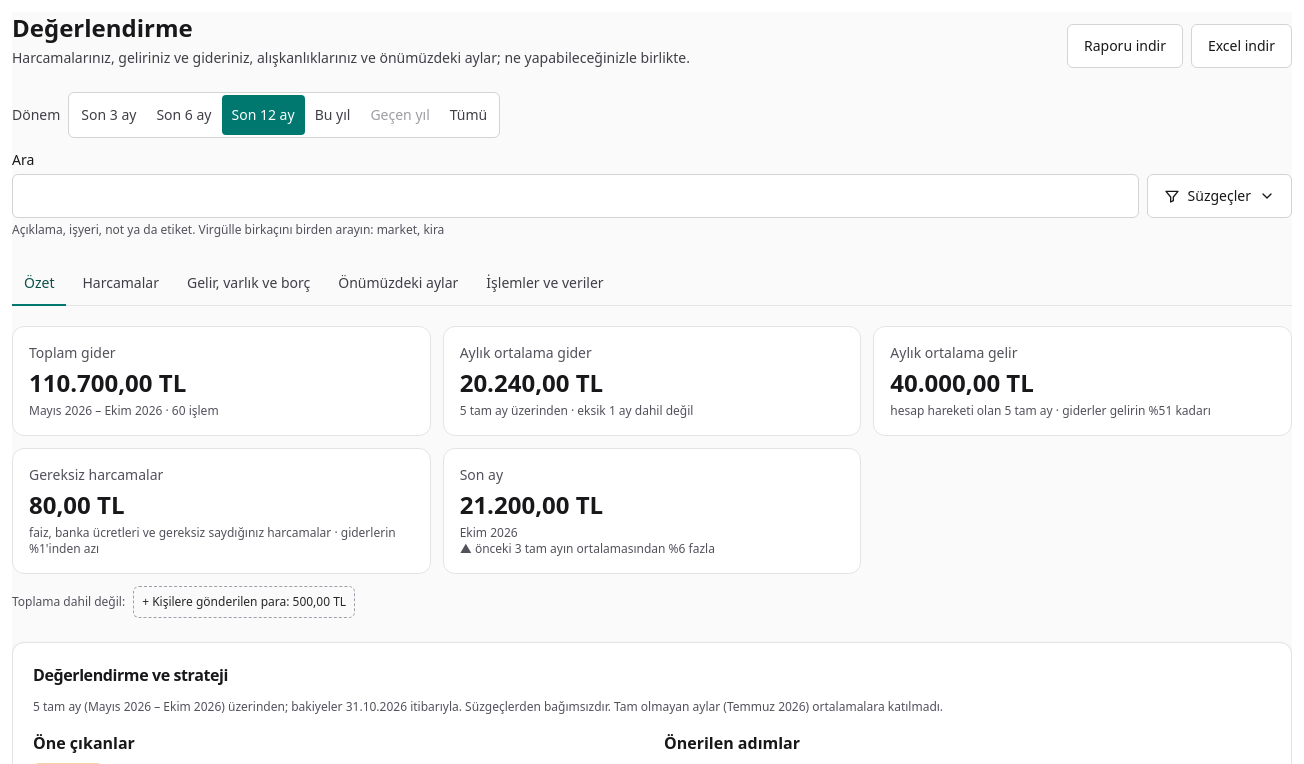
InsightsPage › adds a kind the spending leaves out, with its total under the same filters
This screenshot has width=1304, height=764.
What coordinates should you click on to do the following:
click the button with aria-label "Kişilere gönderilen para: 500,00 TL, toplama ekle"
I would click on:
 (244, 602)
Its box is [133,586,355,618].
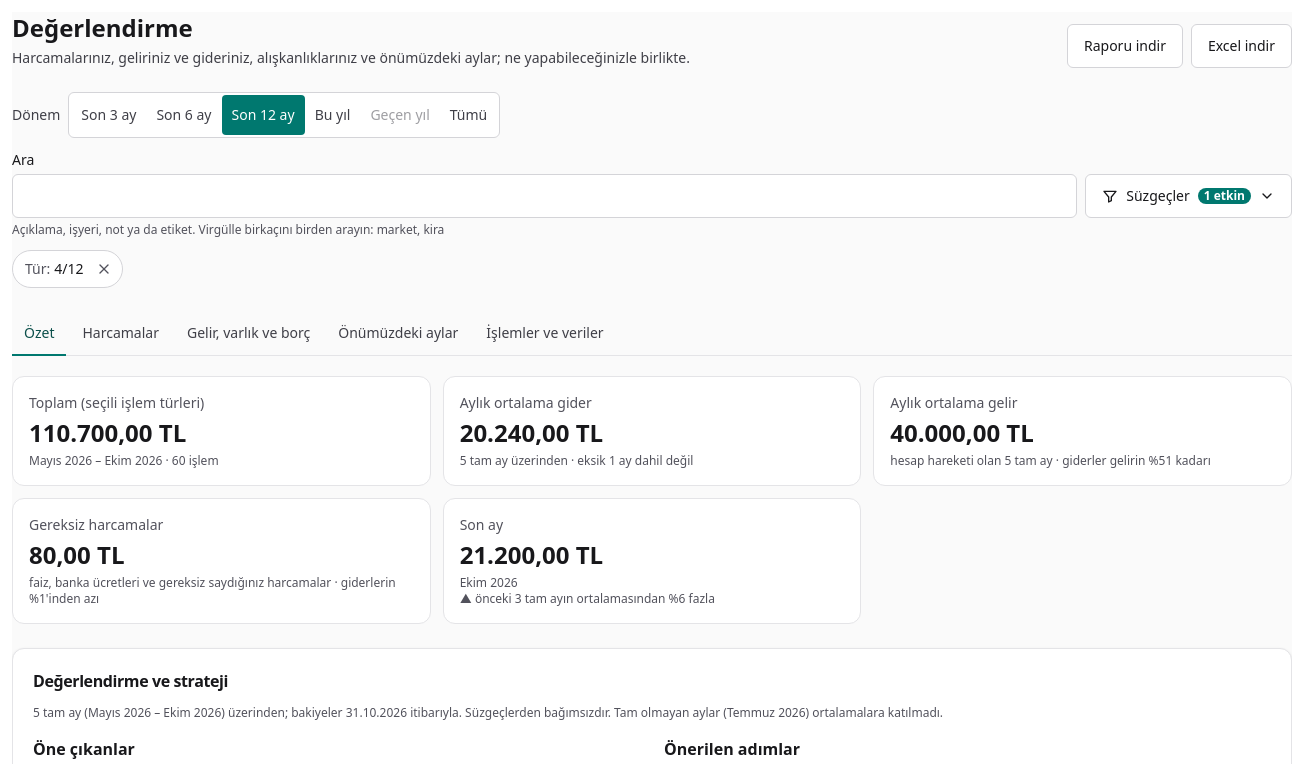
Expected: the text "Toplam (seçili işlem türleri)" is shown, [29,393,204,412]
Expected: the text "Toplama dahil değil:" is gone
